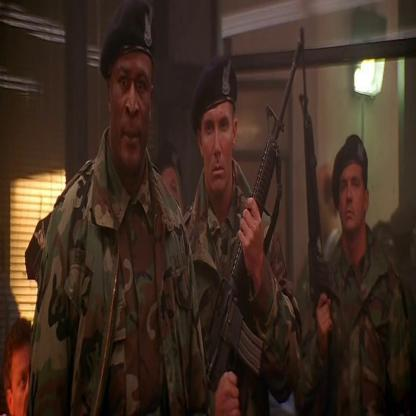gun: (206, 26, 316, 416)
